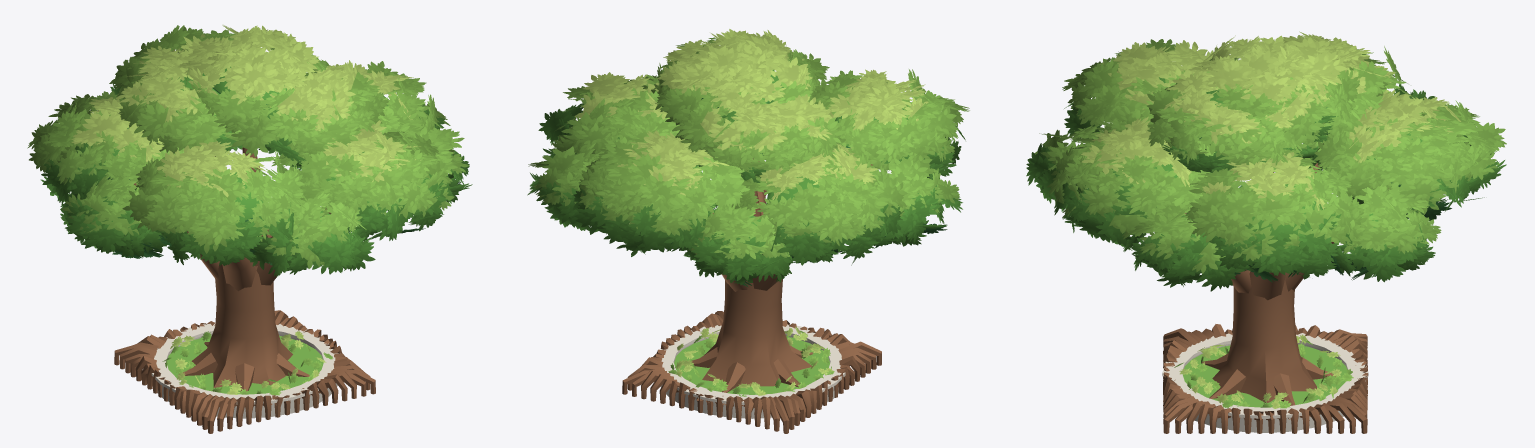
File: tree_banyan.glb
The picture shows the model from 3 angles, left to right: view 1: azimuth 30°, elevation 25°; view 2: azimuth 150°, elevation 25°; view 3: azimuth 270°, elevation 25°; orthographic projection. The views are drawn at different scales.
Visible parts, largest first — view 1: canopy, body; view 2: canopy, body; view 3: canopy, body.
Boxes of the visible parts, x1,y1,x2,y2 form: canopy: (27,25,472,277); body: (114,147,375,433); canopy: (527,29,969,286); body: (622,158,881,433); canopy: (1026,31,1506,291); body: (1162,163,1388,433).
Bounding box in the file's own units: 12.52 × 9.81 × 12.52.
Materials: 3 (1 with a texture image).
